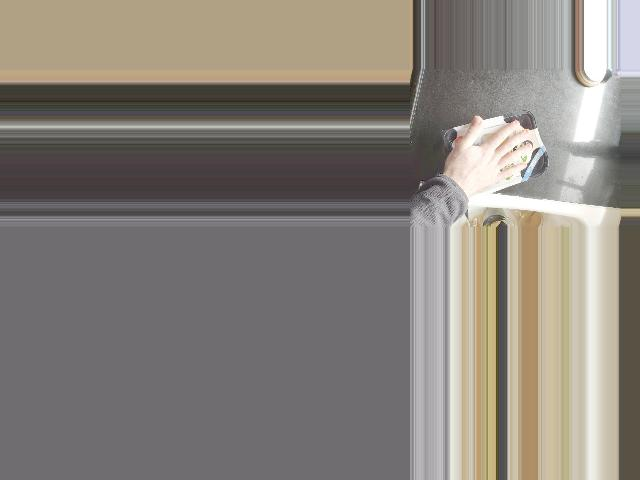cheese: (441, 108, 550, 203)
